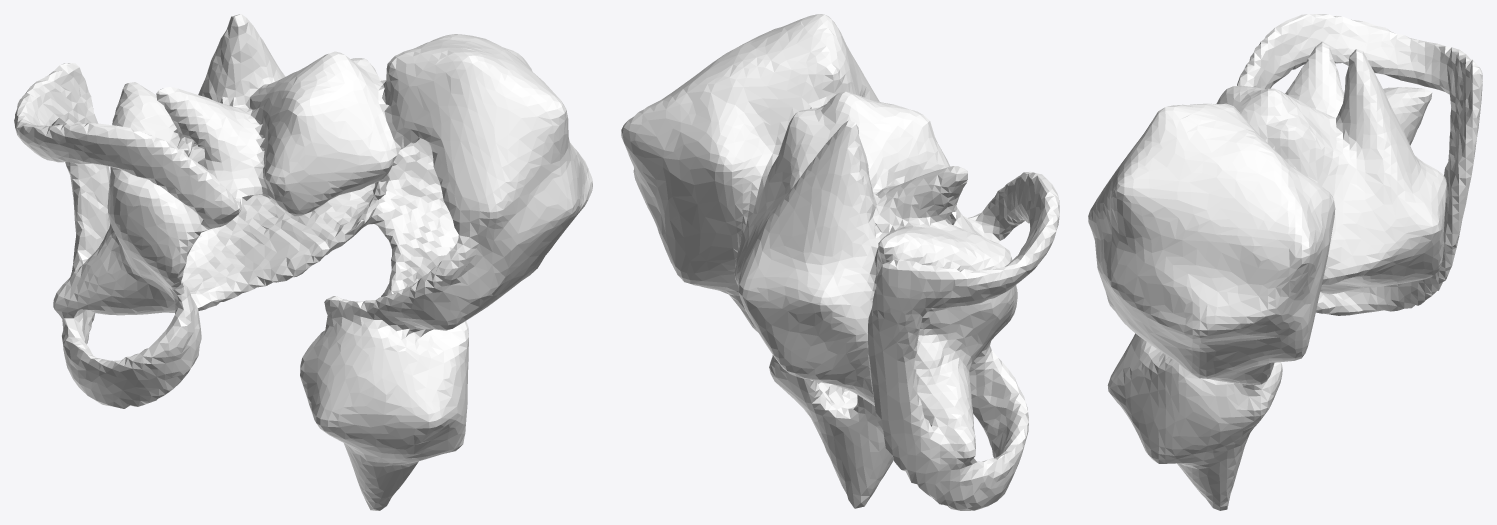
The model's file is littlierpink.obj.
3 views of the same model, side by side, from view 1: azimuth 30°, elevation 25°; view 2: azimuth 150°, elevation 25°; view 3: azimuth 270°, elevation 25° (orthographic). The views are drawn at different scales.
Size of the model in its own units: 293 by 273 by 226.
1 material, 1 textured.
